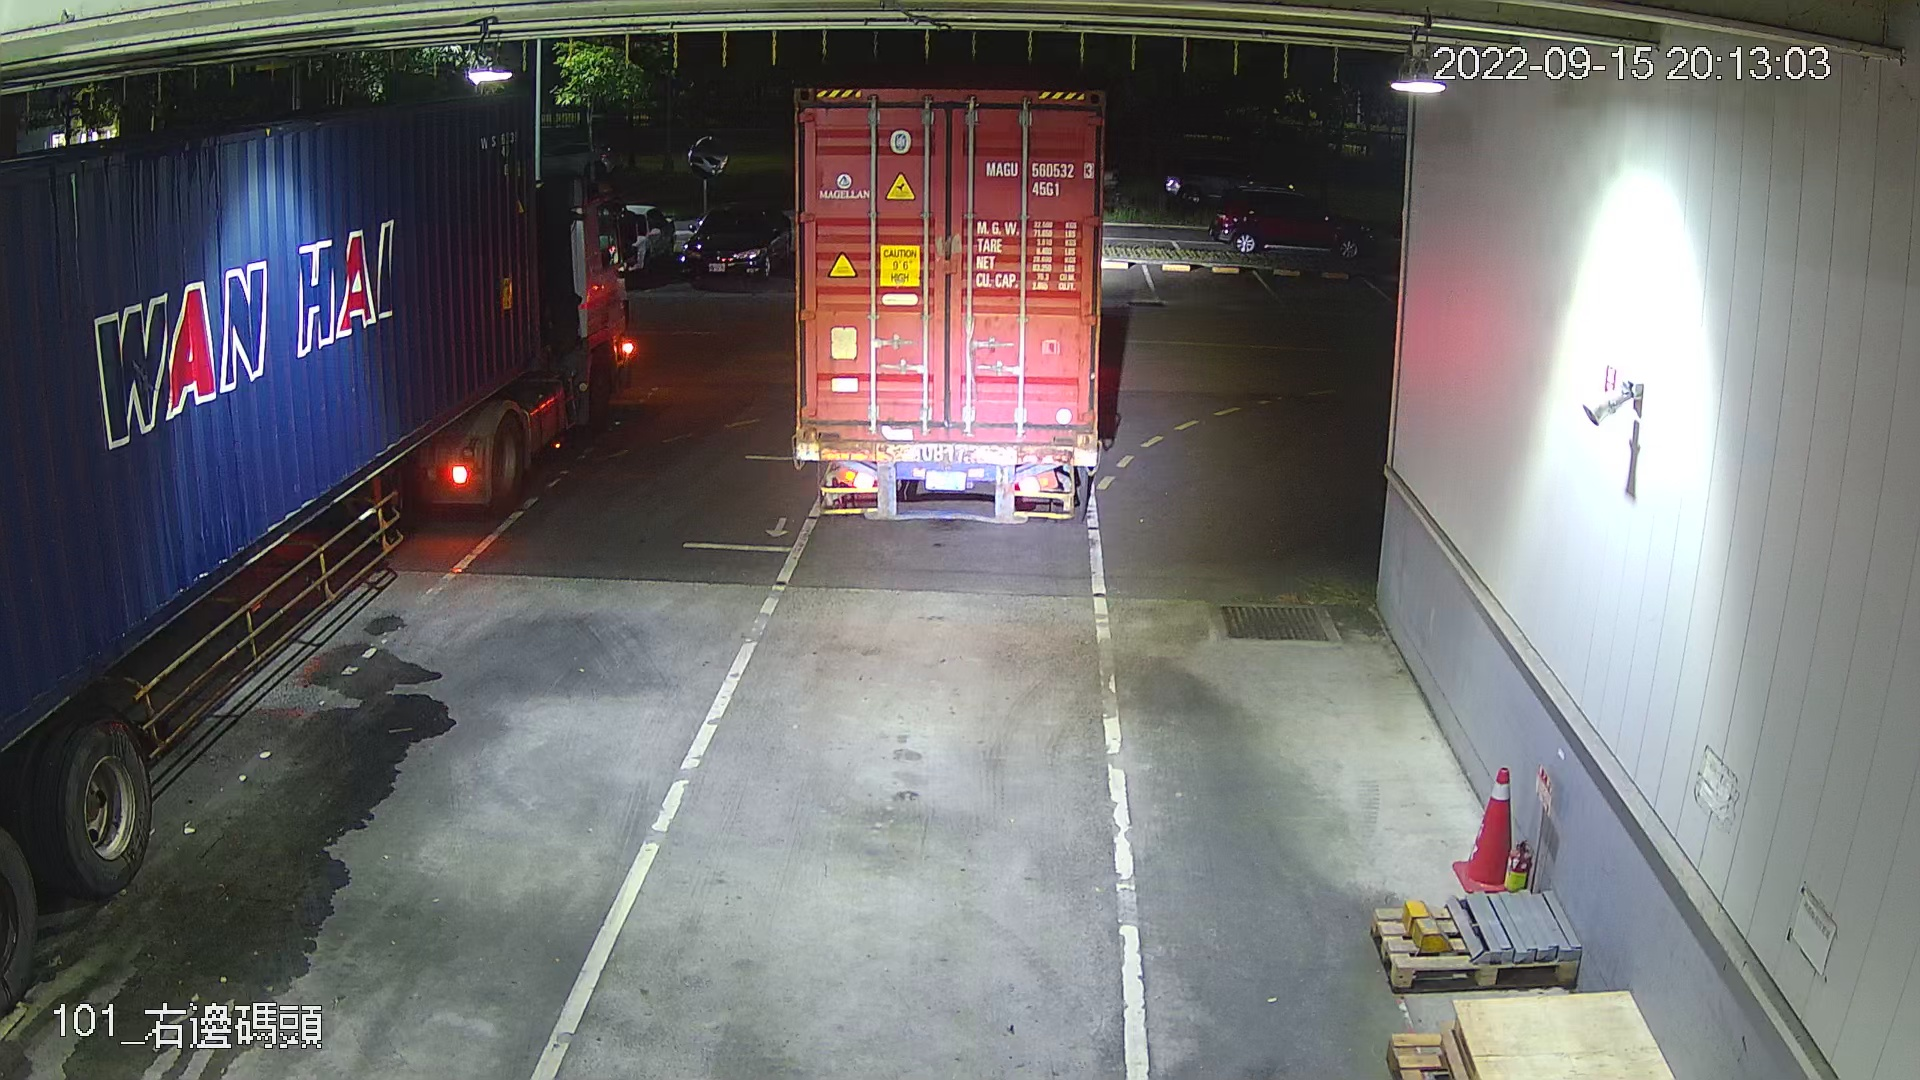container: (981, 152, 1098, 204)
